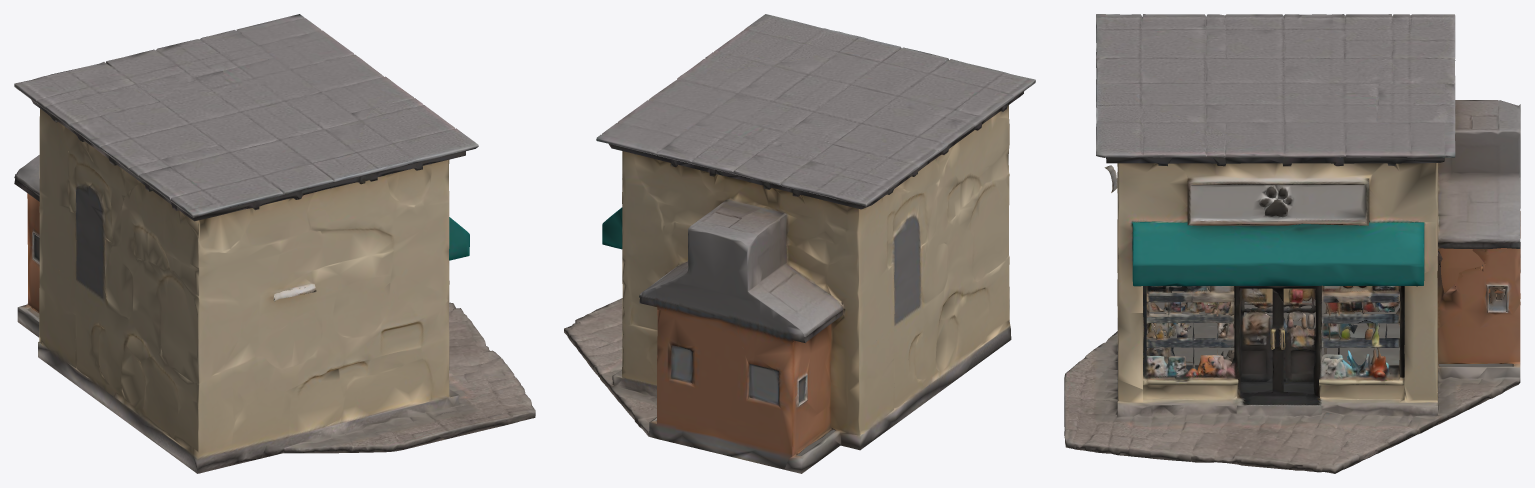
The model's file is petshop.glb.
3 renders of one model, left to right at view 1: azimuth 30°, elevation 25°; view 2: azimuth 150°, elevation 25°; view 3: azimuth 270°, elevation 25°, orthographic. The views are drawn at different scales.
Parts seen in each view (by area): view 1: tripo_node_7078eb4b-da85-453e-b0e8-44dd18b2d8bb; view 2: tripo_node_7078eb4b-da85-453e-b0e8-44dd18b2d8bb; view 3: tripo_node_7078eb4b-da85-453e-b0e8-44dd18b2d8bb.
Boxes of the visible parts, x1,y1,x2,y2 form: tripo_node_7078eb4b-da85-453e-b0e8-44dd18b2d8bb: [14, 14, 535, 473]; tripo_node_7078eb4b-da85-453e-b0e8-44dd18b2d8bb: [564, 14, 1035, 473]; tripo_node_7078eb4b-da85-453e-b0e8-44dd18b2d8bb: [1064, 14, 1520, 473].
Bounding box in the file's own units: 0.9641 × 0.6633 × 0.9992.
1 material, 1 textured.
